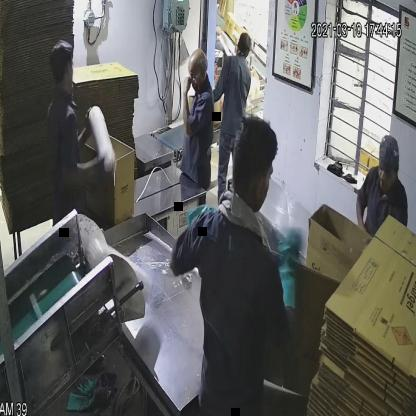no_glove: (58, 144, 116, 186), (180, 70, 196, 146)
